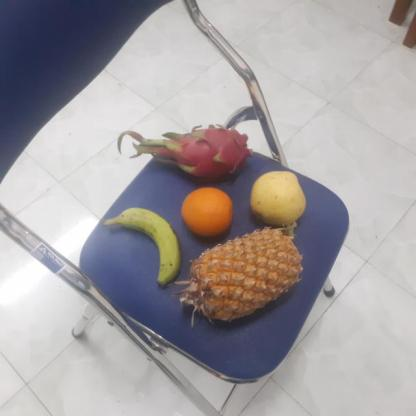banana: (113, 206, 182, 285)
orange: (178, 186, 235, 239)
pear: (251, 170, 306, 226)
pineapple: (187, 230, 297, 319)
pitaya: (156, 124, 249, 184)
